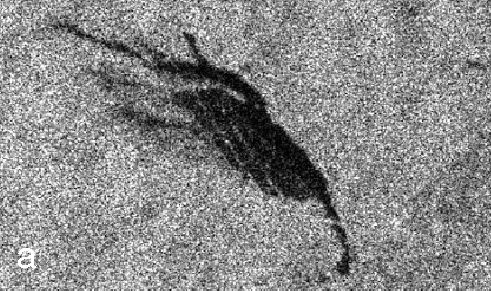anomaly: (84, 31, 384, 274)
